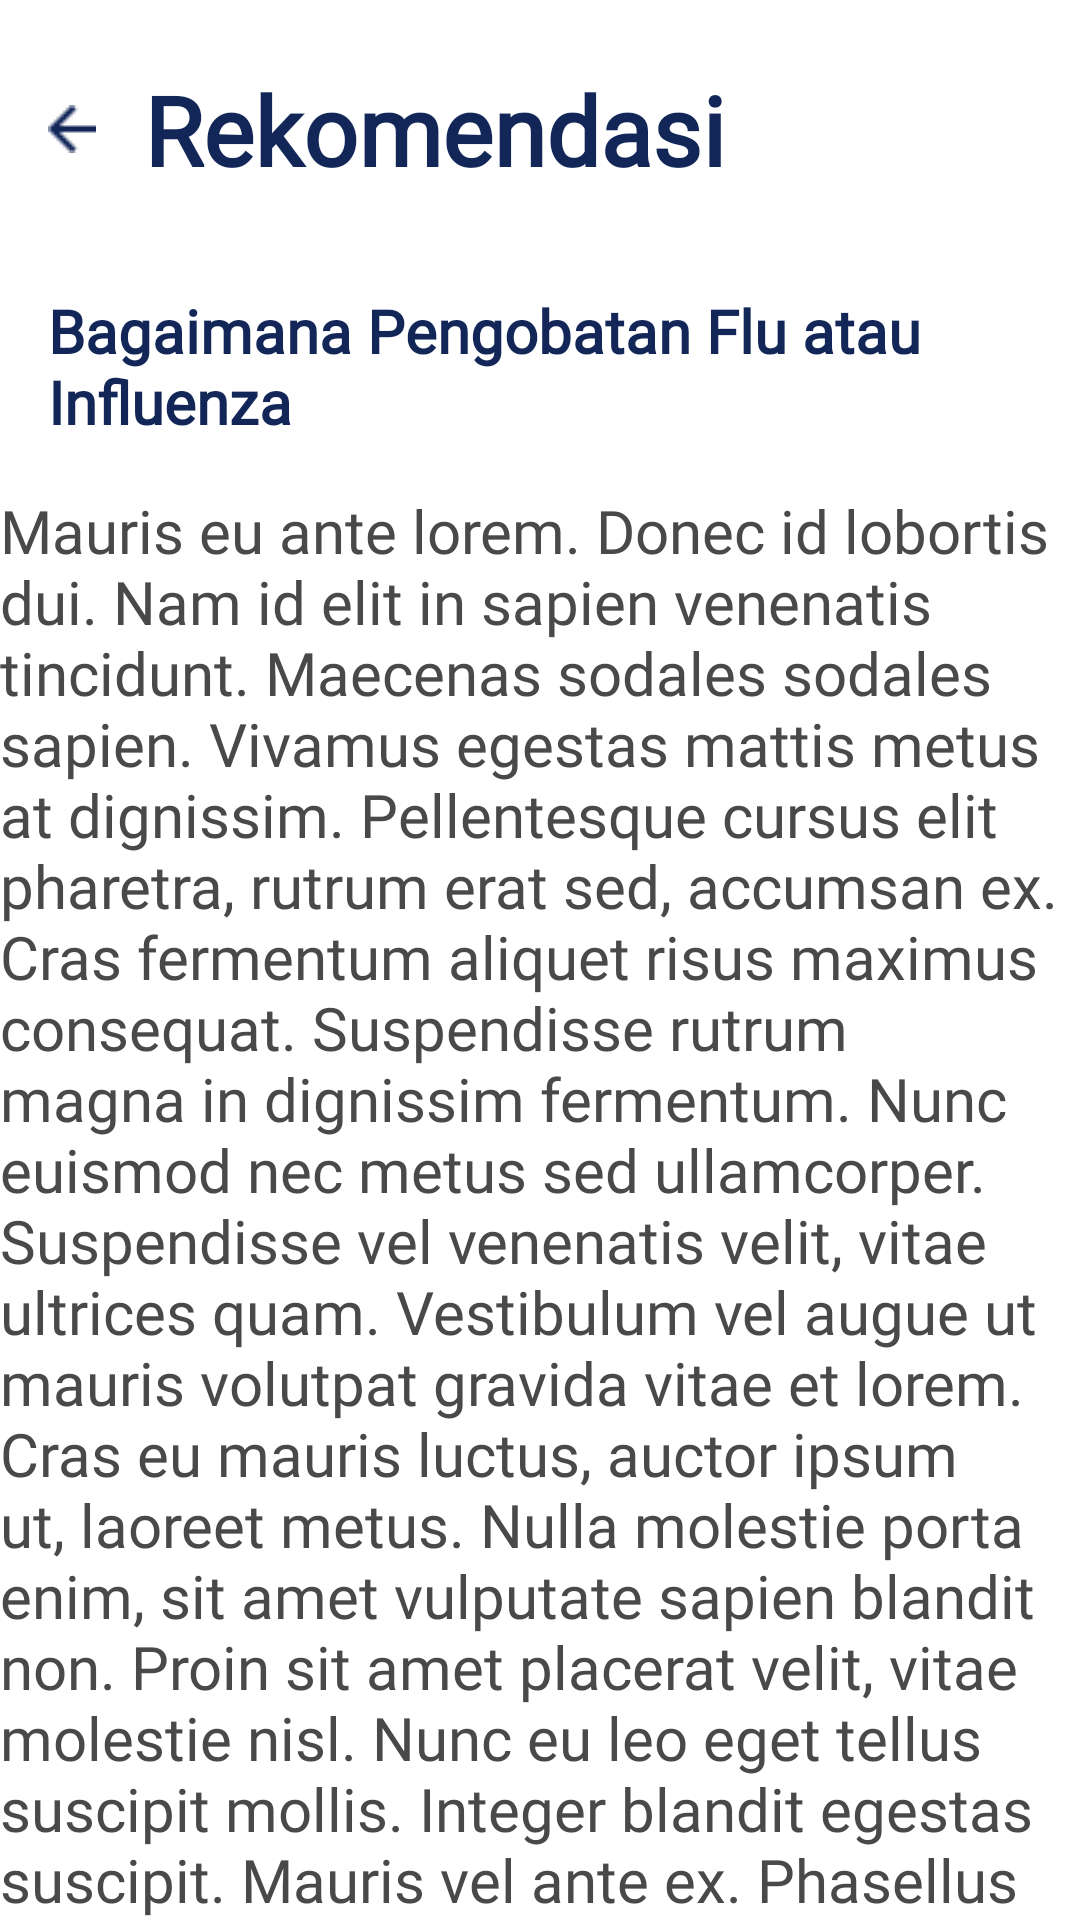

Point at icon controls on the screen. Image size 1080*1920, points as [x,y].
back: [72,129]
